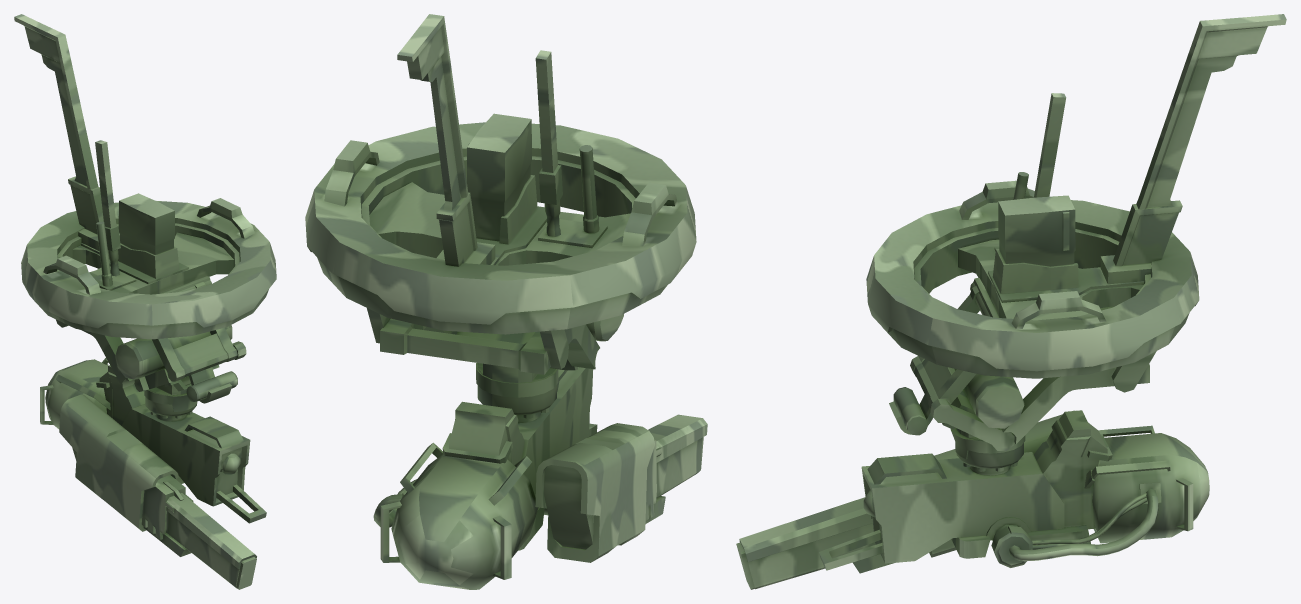
Rendered from drone.obj.
3 views of the same model, side by side, from view 1: azimuth 30°, elevation 25°; view 2: azimuth 150°, elevation 25°; view 3: azimuth 270°, elevation 25° (orthographic). The views are drawn at different scales.
Parts seen in each view (by area): view 1: drone:Mesh; view 2: drone:Mesh; view 3: drone:Mesh.
Boxes of the visible parts, <box> form: drone:Mesh: <box>14,14,276,589</box>; drone:Mesh: <box>305,14,707,589</box>; drone:Mesh: <box>736,14,1286,589</box>.
Size of the model in its own units: 1.76 by 3.2 by 2.87.
